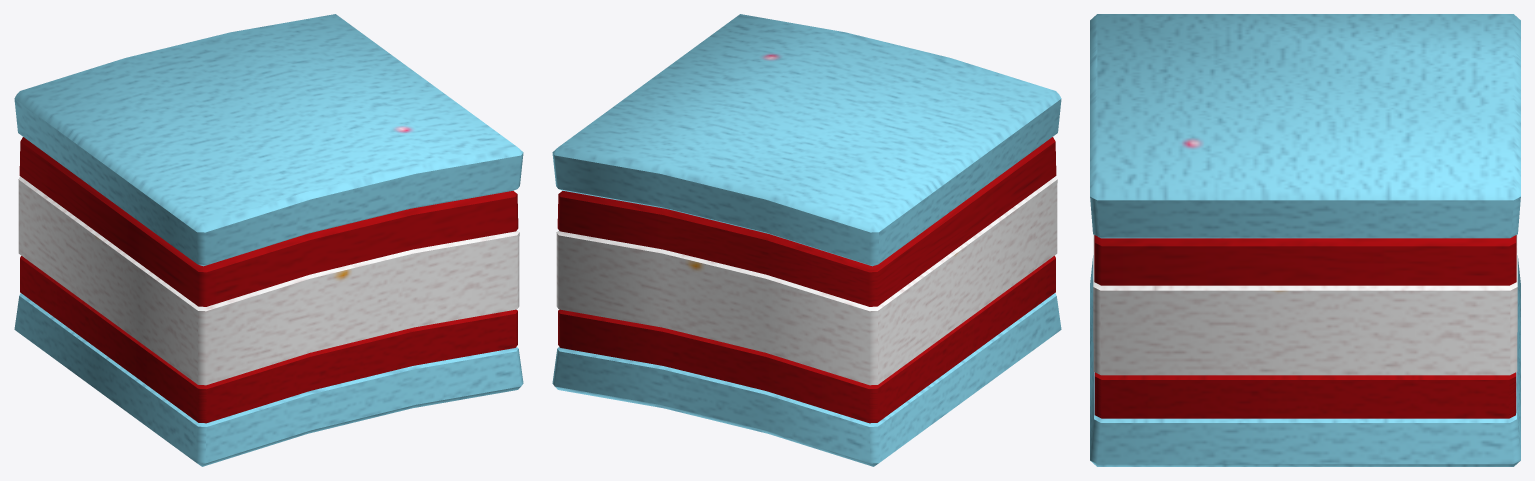
Rendered from DoubleLayersSquare4_UV_FBX.fbx.
The picture shows the model from 3 angles, left to right: view 1: azimuth 30°, elevation 25°; view 2: azimuth 150°, elevation 25°; view 3: azimuth 270°, elevation 25°; orthographic projection. The views are drawn at different scales.
Parts seen in each view (by area): view 1: 5layers; view 2: 5layers; view 3: 5layers.
Part boxes in pixels (x1,y1,x2,y2): 5layers: [14, 14, 523, 466]; 5layers: [552, 14, 1061, 466]; 5layers: [1090, 14, 1520, 466].
Bounding box in the file's own units: 120 × 87.67 × 120.
